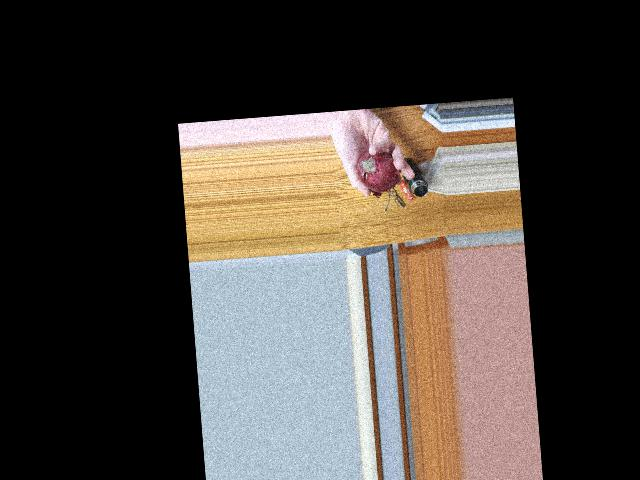onion: (353, 145, 395, 192)
